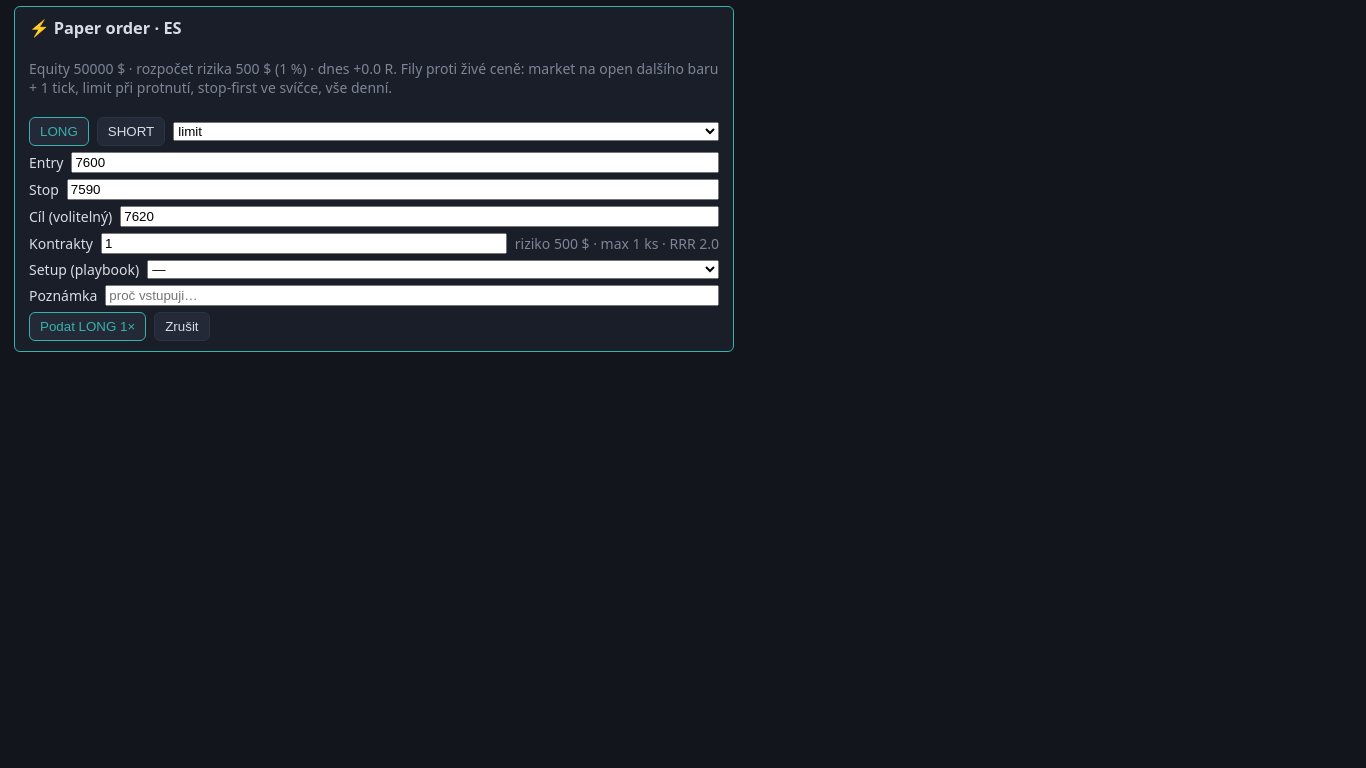
Test case: ticket ukáže důvod blokace ze serveru
Click the button with test id "paper-submit" at (88, 326), box [29,312,146,341]
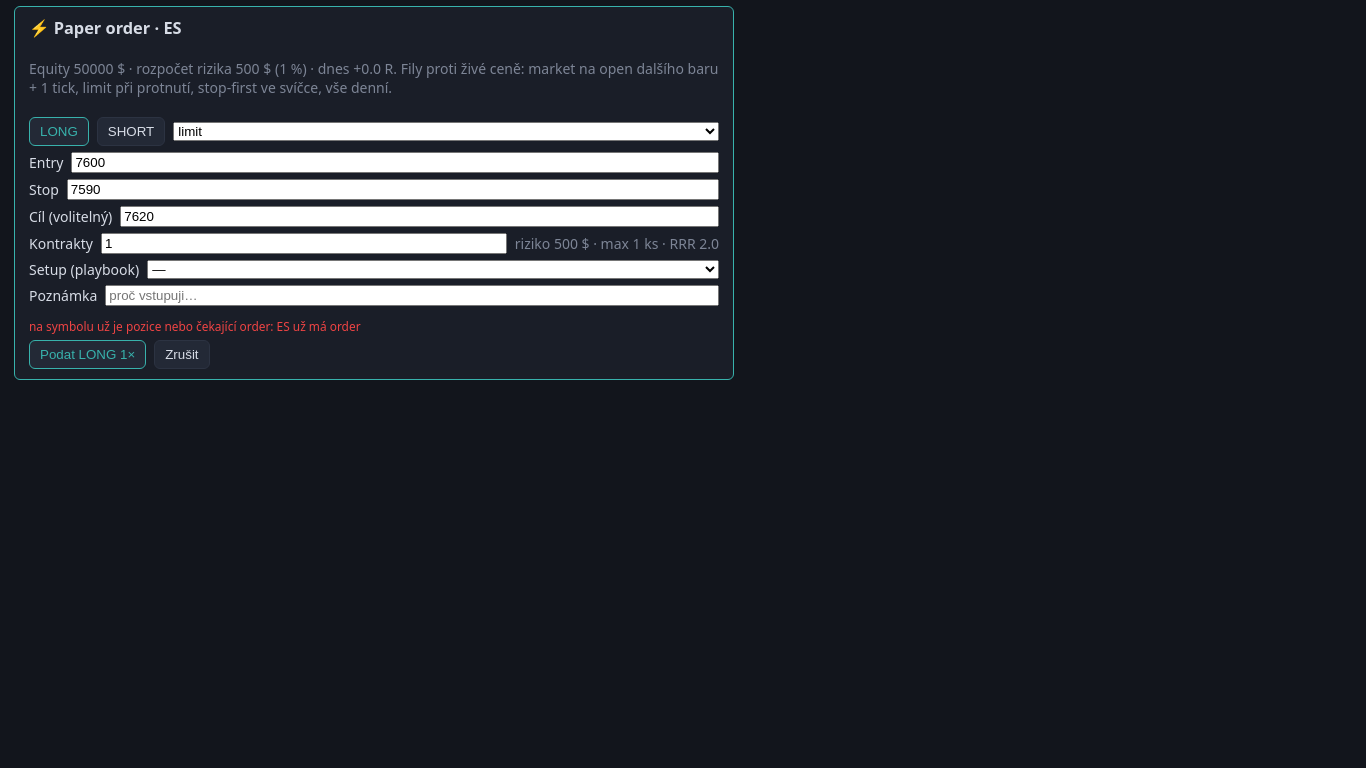
Now the text "na symbolu už je pozice nebo čekající order: ES už má order" is shown, box [29,318,360,334]
